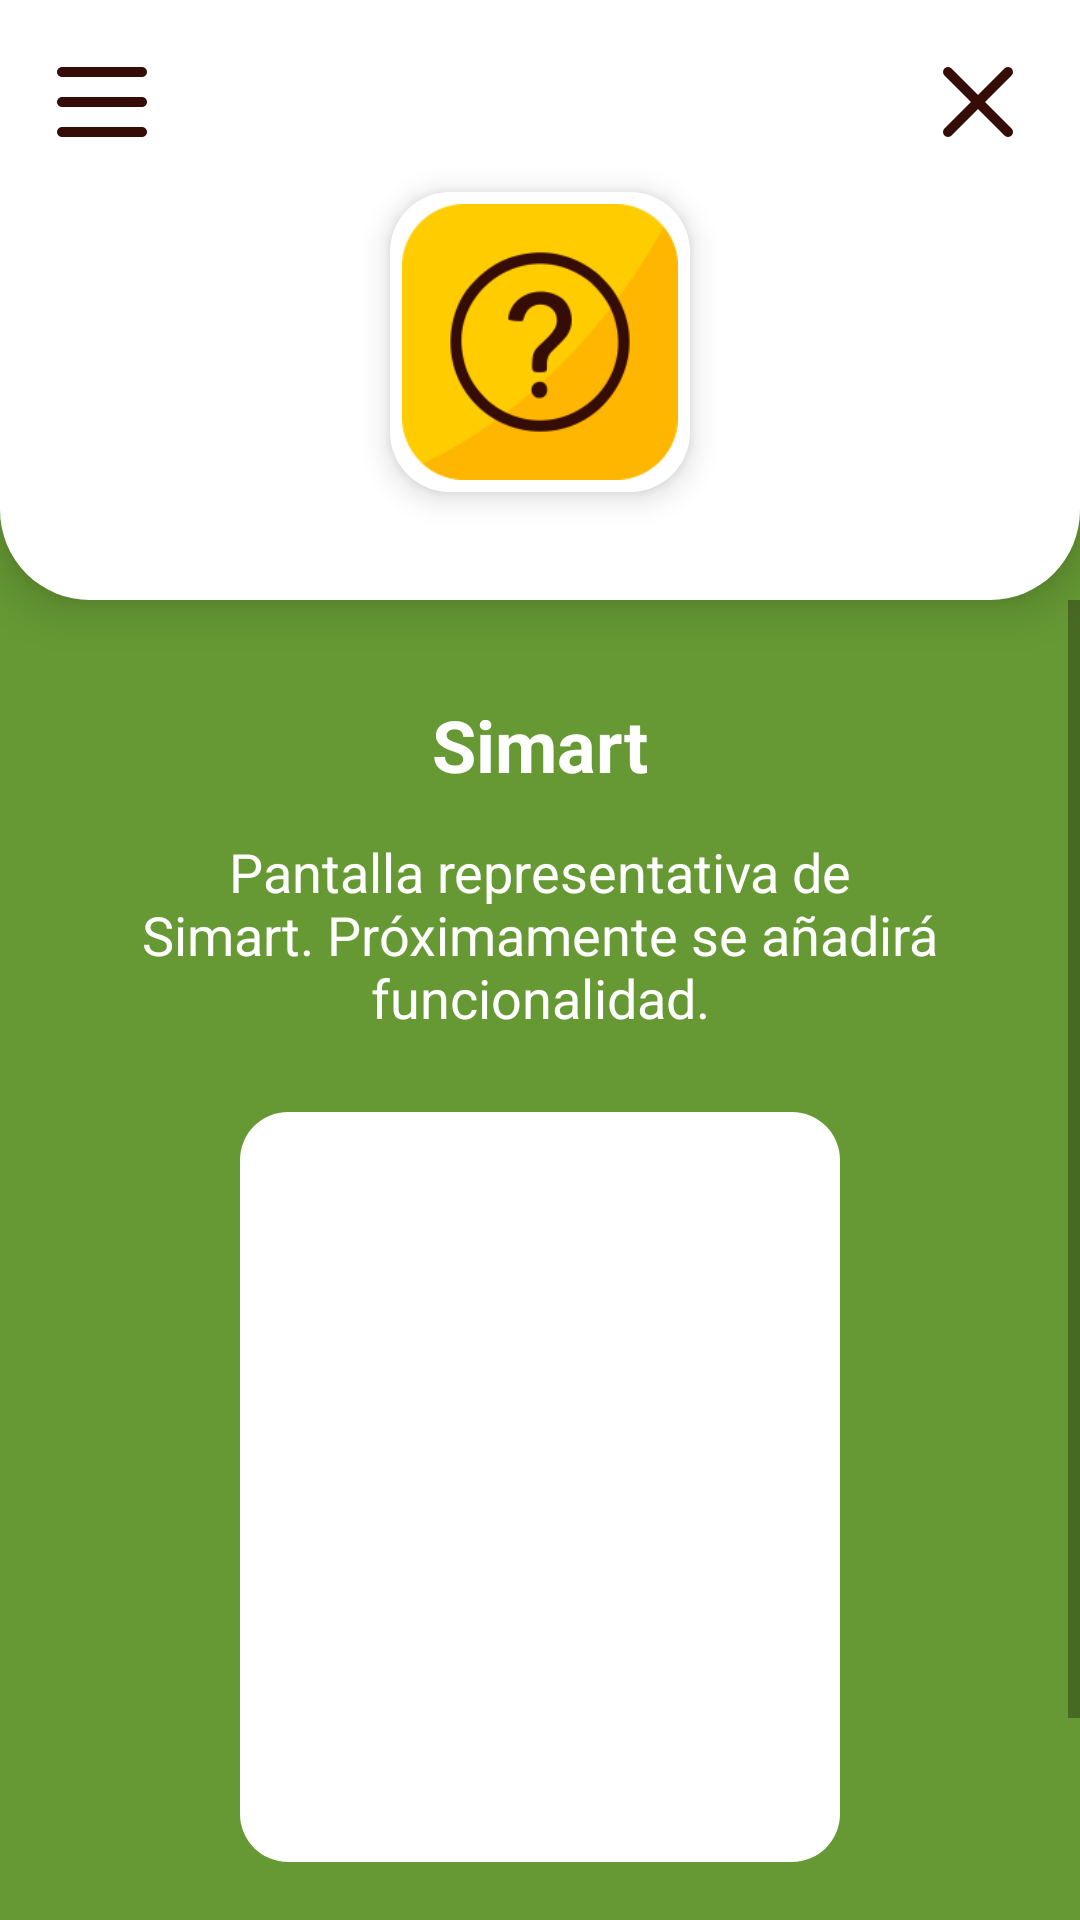

Icons on this 1080*1920 Android screen, each with its box as bbox(x1, y1, x2, y2):
close: bbox(943, 67, 1013, 137)
menu: bbox(57, 67, 147, 137)
